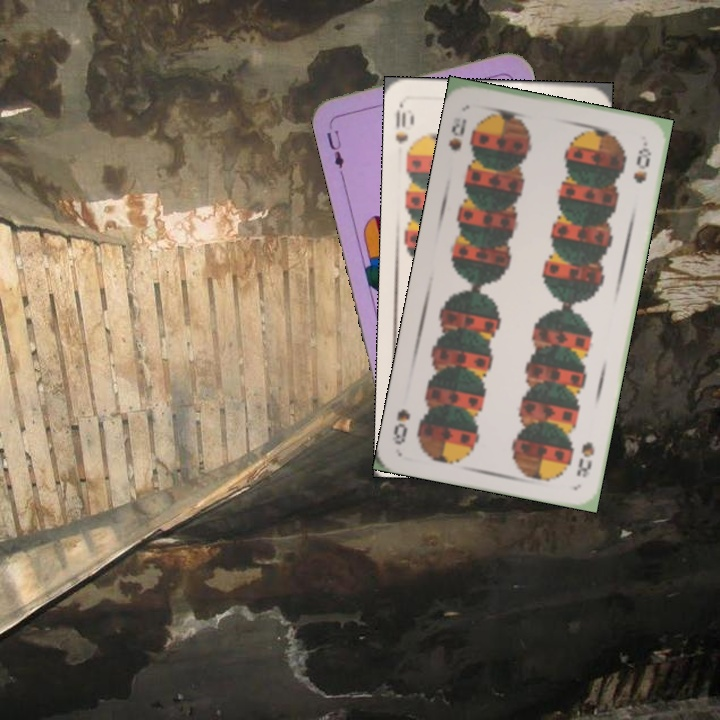EU: (322, 119, 347, 177)
S10: (392, 102, 417, 161)
S8: (572, 437, 597, 480), (444, 114, 470, 154)
